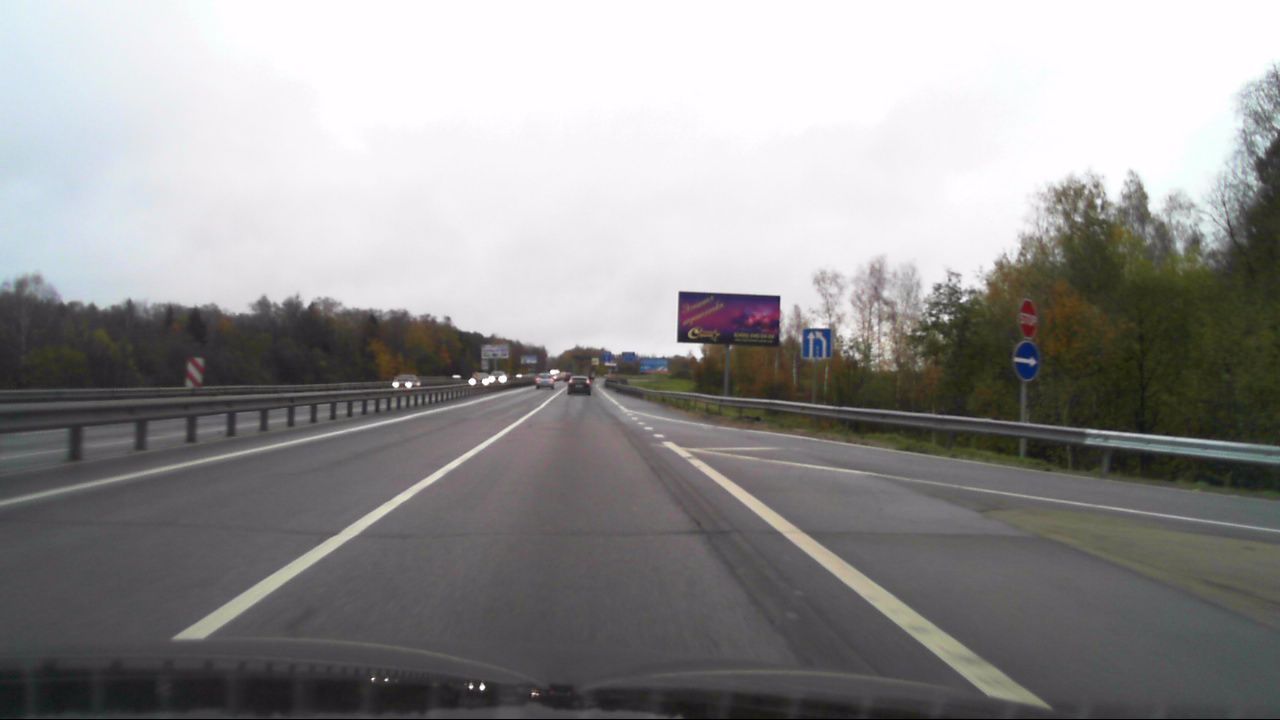Turn Right: (1013, 341, 1041, 381)
